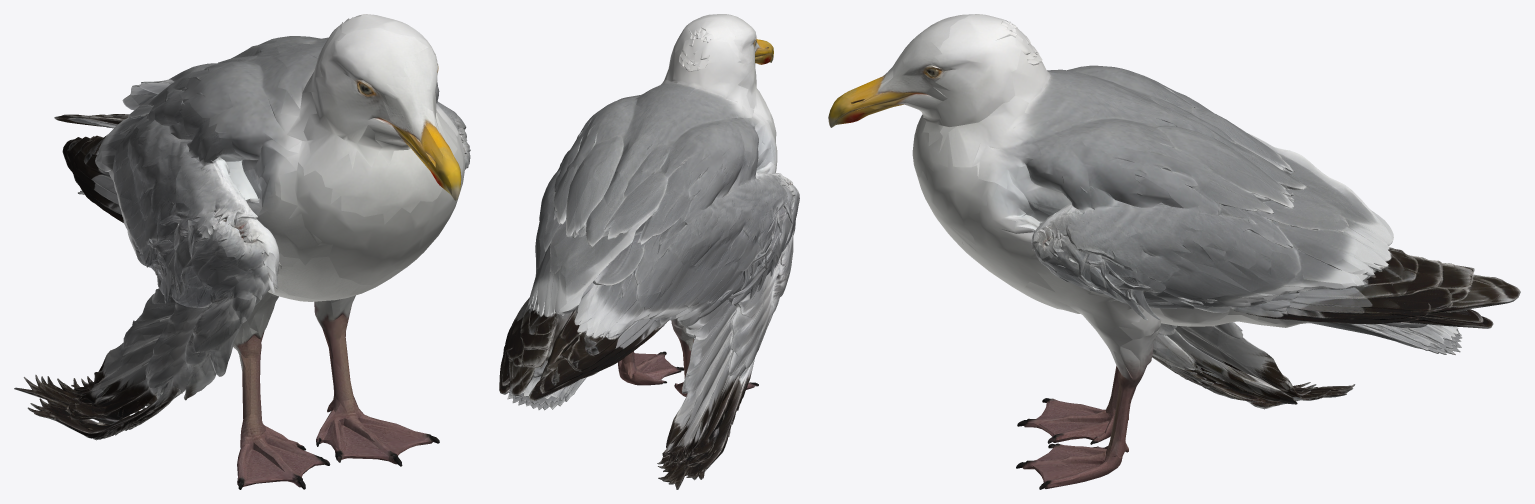
3 views of the same model, side by side, from view 1: azimuth 30°, elevation 25°; view 2: azimuth 150°, elevation 25°; view 3: azimuth 270°, elevation 25° (orthographic). The views are drawn at different scales.
Parts seen in each view (by area): view 1: Mesh_0; view 2: Mesh_0; view 3: Mesh_0.
Boxes of the visible parts, x1,y1,x2,y2 form: Mesh_0: [14, 14, 470, 489]; Mesh_0: [499, 14, 799, 489]; Mesh_0: [828, 14, 1520, 489].
Bounding box in the file's own units: 0.9021 × 1.33 × 1.9.
Materials: 1 (1 with a texture image).
